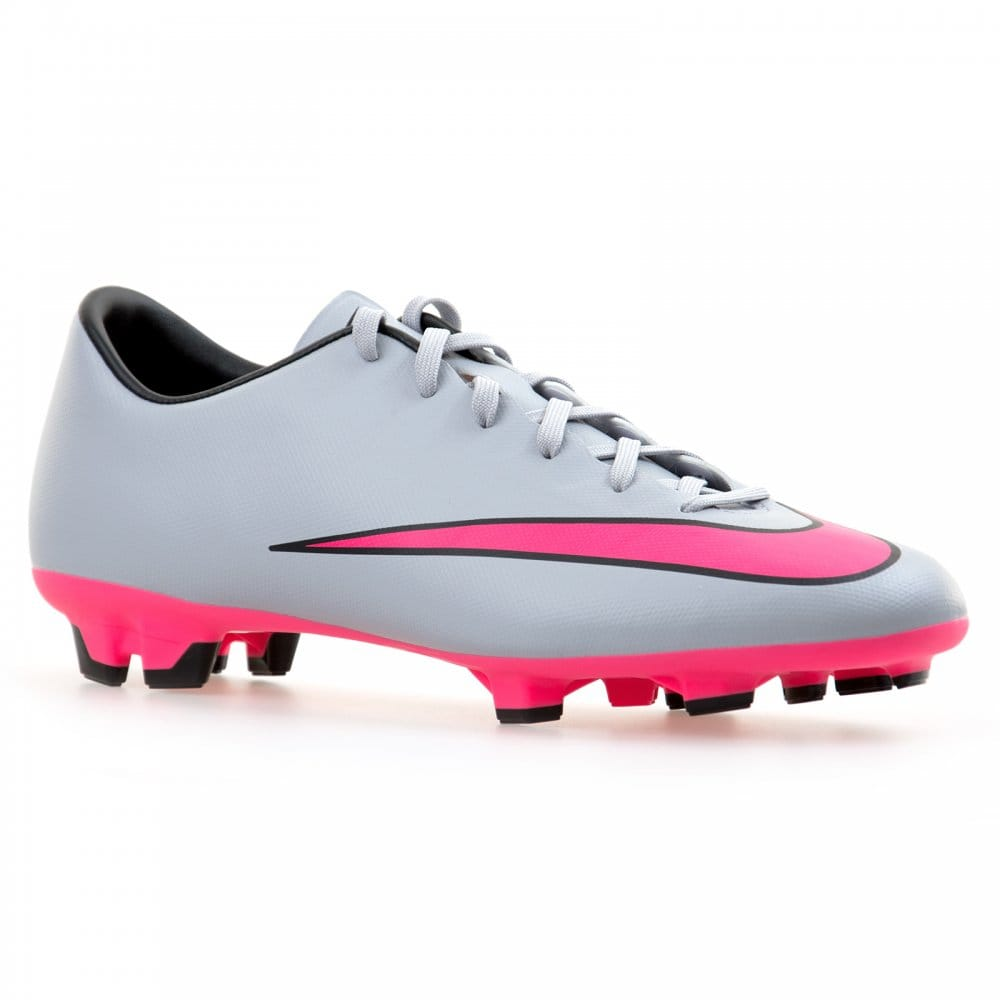football boots: (28, 284, 968, 726)
